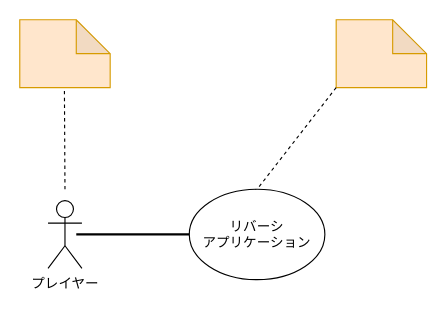
The diagram is 446 pixels wide and 312 high, and some of its shapes have lost their labels. The shapes that lost their labels are listed below. From the top down, each one's centre as x and y in pixels, then its label:
the point at 64,53: 1人で黒白 交互に打つ
the point at 381,53: Webアプリ
